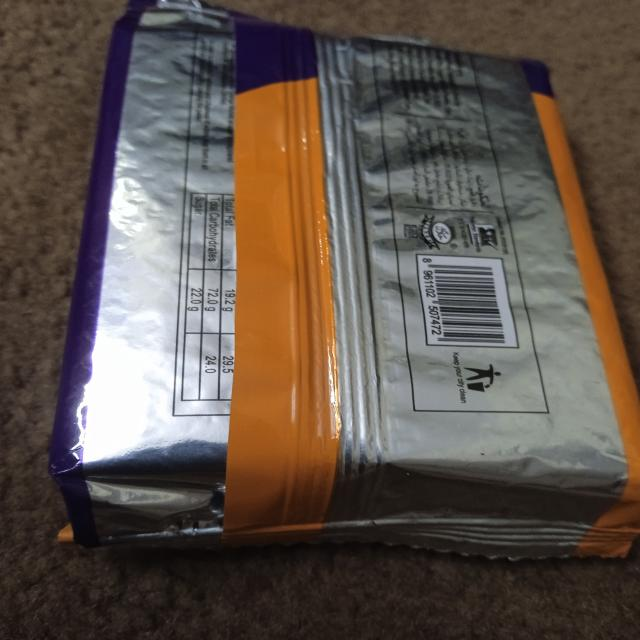Plastic: (41, 0, 640, 577)
